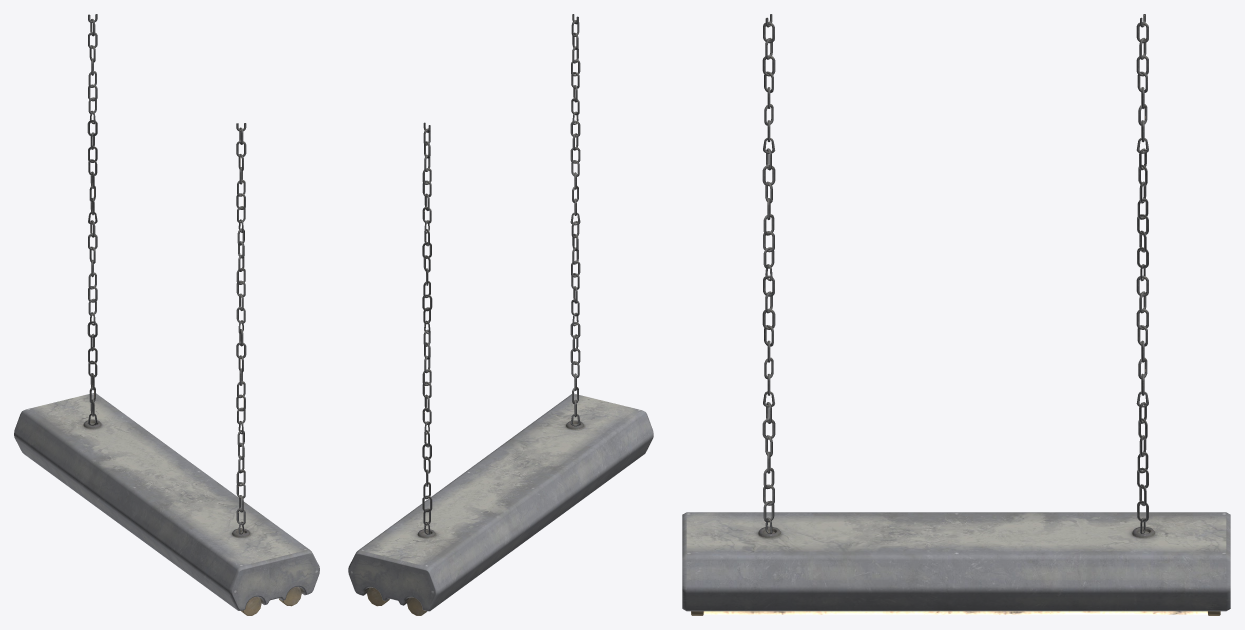
The model's file is SM_Fluorescent_Light01.glb.
The picture shows the model from 3 angles, left to right: view 1: azimuth 30°, elevation 25°; view 2: azimuth 150°, elevation 25°; view 3: azimuth 270°, elevation 25°; orthographic projection. The views are drawn at different scales.
Parts seen in each view (by area): view 1: SM_Fluorescent_Light01; view 2: SM_Fluorescent_Light01; view 3: SM_Fluorescent_Light01.
Part boxes in pixels (x1,y1,x2,y2): SM_Fluorescent_Light01: [14, 14, 319, 615]; SM_Fluorescent_Light01: [348, 14, 653, 615]; SM_Fluorescent_Light01: [682, 14, 1230, 615].
Bounding box in the file's own units: 0.2948 × 1.43 × 1.22.
1 material, 1 textured.
